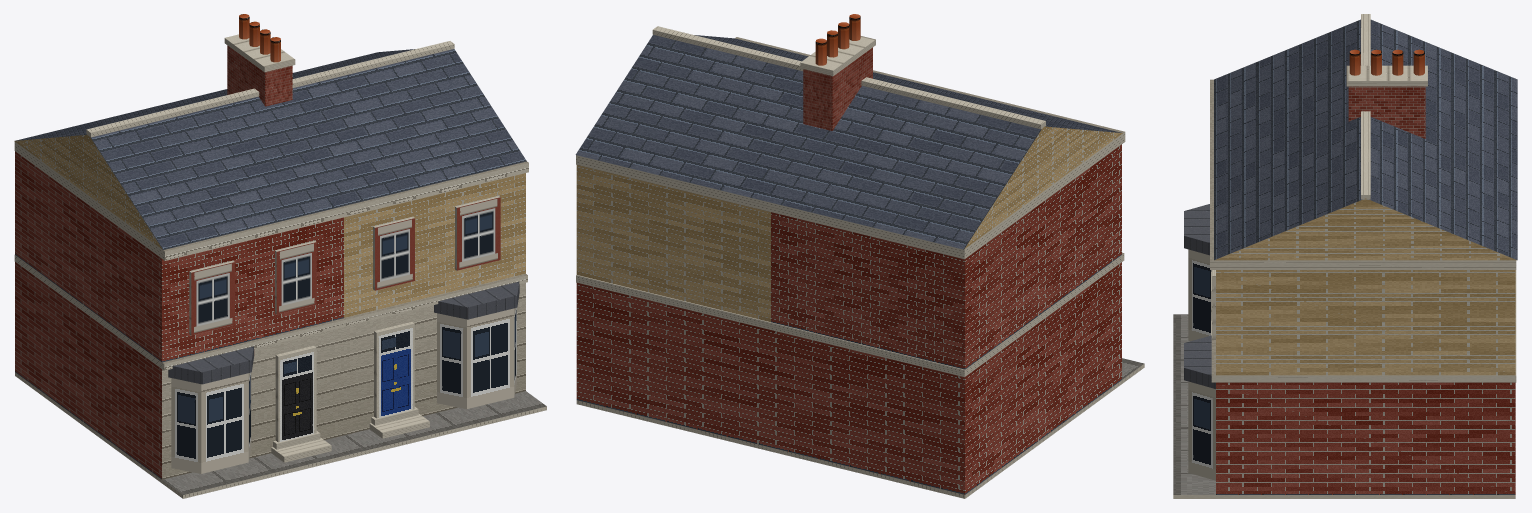
The model's file is building_terraced_row_01.glb.
3 views of the same model, side by side, from view 1: azimuth 30°, elevation 25°; view 2: azimuth 150°, elevation 25°; view 3: azimuth 270°, elevation 25° (orthographic). The views are drawn at different scales.
Parts seen in each view (by area): view 1: Building_Terraced_Row_01; view 2: Building_Terraced_Row_01; view 3: Building_Terraced_Row_01.
Part boxes in pixels (left/top/right/bottom): Building_Terraced_Row_01: left=14, top=14, right=546, bottom=498; Building_Terraced_Row_01: left=575, top=14, right=1144, bottom=498; Building_Terraced_Row_01: left=1173, top=14, right=1517, bottom=498.
Size of the model in its own units: 10 by 9.19 by 8.05.
1 material, 1 textured.
